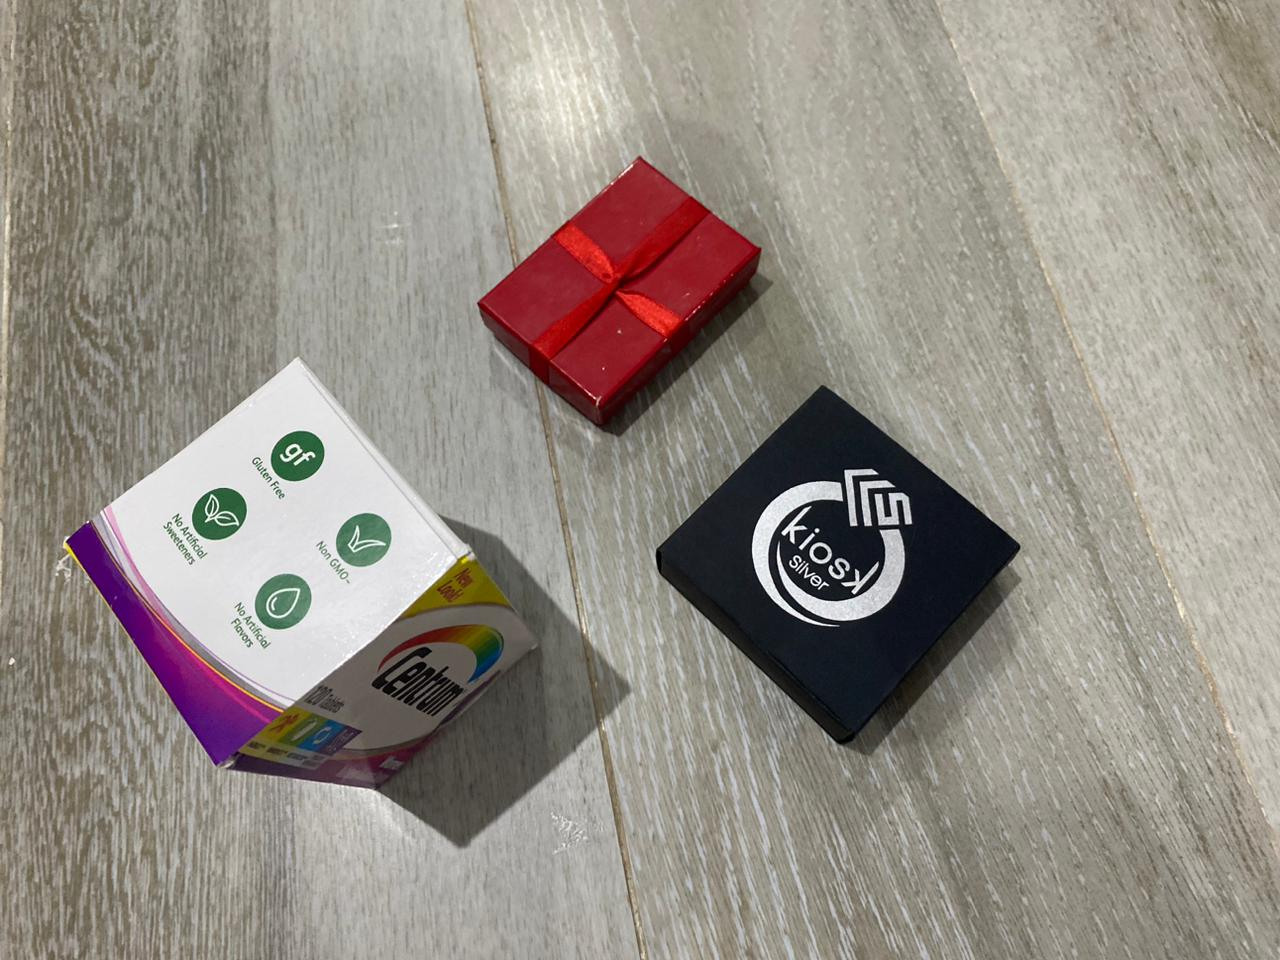Black Box: (471, 152, 762, 426)
Centrum: (60, 354, 542, 794)
Red Box: (654, 386, 1022, 747)
